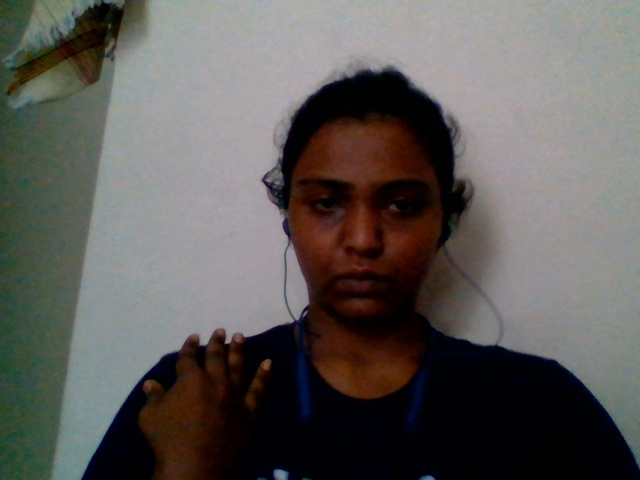Please: (116, 295, 299, 475)
